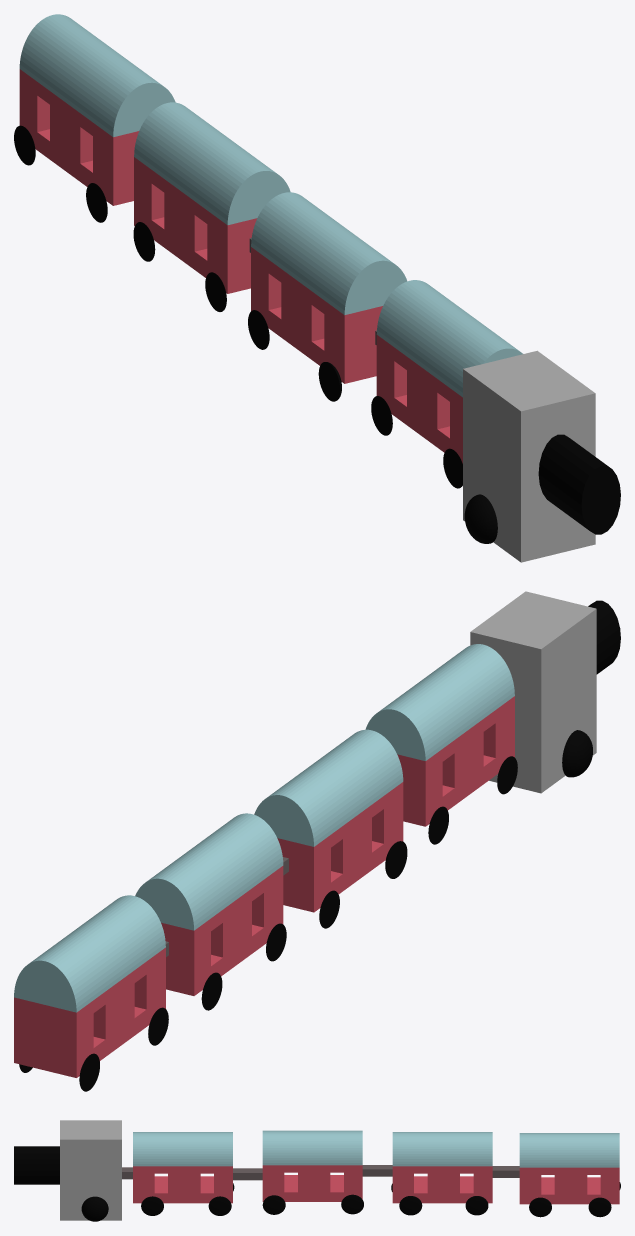
File: Pro-150.glb
3 views of the same model, one above another, from view 1: azimuth 30°, elevation 25°; view 2: azimuth 150°, elevation 25°; view 3: azimuth 270°, elevation 25° (orthographic). The views are drawn at different scales.
Visible parts, largest first — view 1: Mesh_Mesh_head_geo.001_lambert2SG.001; view 2: Mesh_Mesh_head_geo.001_lambert2SG.001; view 3: Mesh_Mesh_head_geo.001_lambert2SG.001.
Boxes of the visible parts, x1,y1,x2,y2 form: Mesh_Mesh_head_geo.001_lambert2SG.001: [14, 14, 620, 562]; Mesh_Mesh_head_geo.001_lambert2SG.001: [14, 591, 620, 1091]; Mesh_Mesh_head_geo.001_lambert2SG.001: [14, 1120, 620, 1221].
Size of the model in its own units: 26 by 33 by 224.
